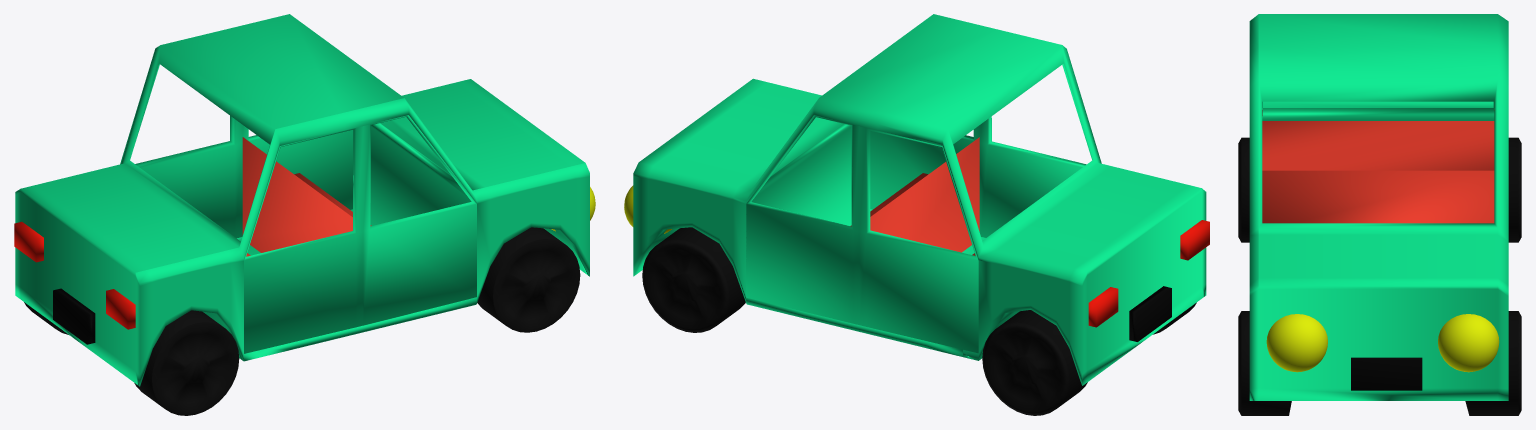
File: car1.fbx
3 renders of one model, left to right at view 1: azimuth 30°, elevation 25°; view 2: azimuth 150°, elevation 25°; view 3: azimuth 270°, elevation 25°, orthographic. The views are drawn at different scales.
Visible parts, largest first — view 1: body, frontwheel, backwheel, backnumber, backlight.001, backlight; view 2: body, frontwheel, backwheel, backnumber, backlight.001, backlight; view 3: body, frontwheel, frontlight, frontlight.001, backwheel, frontnumber.
Boxes of the visible parts, x1,y1,x2,y2 form: body: [15, 14, 589, 386]; frontwheel: [477, 227, 580, 332]; backwheel: [24, 302, 239, 415]; backnumber: [53, 288, 95, 344]; backlight.001: [14, 221, 43, 262]; backlight: [106, 289, 135, 329]; body: [633, 14, 1206, 385]; frontwheel: [642, 227, 745, 332]; backwheel: [982, 302, 1196, 415]; backnumber: [1129, 286, 1171, 341]; backlight.001: [1088, 287, 1118, 327]; backlight: [1180, 220, 1209, 260]; body: [1249, 14, 1508, 400]; frontwheel: [1238, 311, 1521, 415]; frontlight: [1438, 314, 1499, 372]; frontlight.001: [1266, 314, 1327, 372]; backwheel: [1238, 137, 1521, 242]; frontnumber: [1351, 357, 1422, 390].
Bounding box in the file's own units: 914 × 466 × 445.
